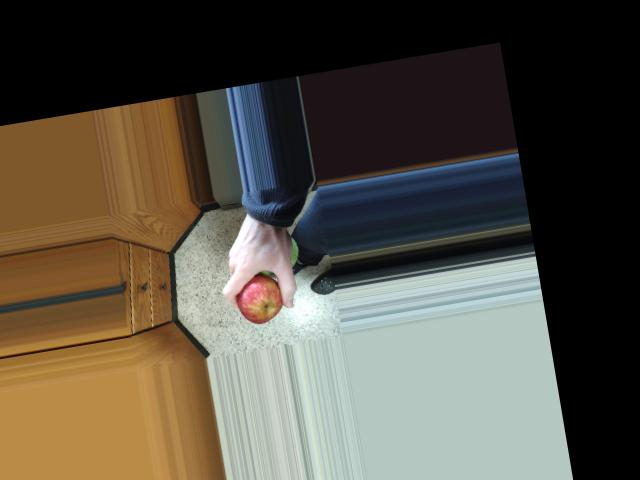apple: (229, 262, 293, 329)
